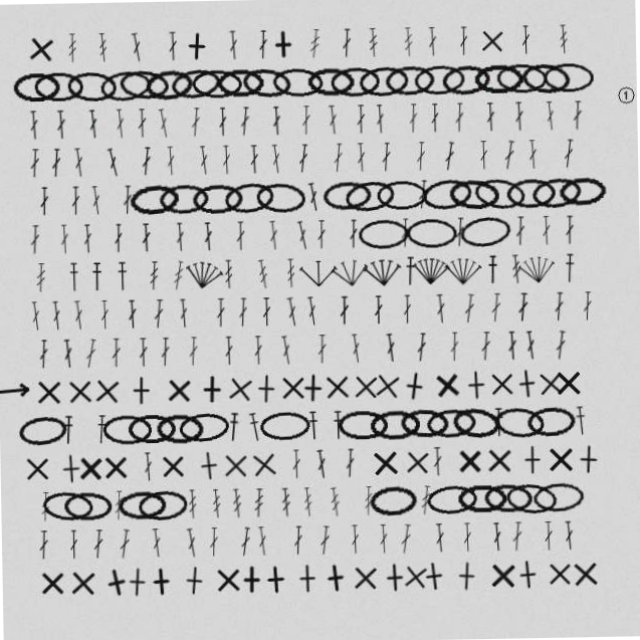chain: (346, 179, 399, 215), (475, 179, 528, 215), (175, 65, 228, 100), (226, 179, 279, 214), (423, 179, 476, 214), (460, 217, 513, 252), (501, 484, 555, 518), (532, 180, 585, 214), (491, 408, 544, 442), (449, 407, 500, 442), (105, 66, 157, 100), (246, 66, 298, 100), (524, 66, 576, 100), (17, 408, 69, 442), (177, 408, 230, 441), (40, 484, 93, 517), (124, 66, 175, 99), (132, 180, 183, 213), (277, 67, 329, 99), (450, 181, 502, 213), (135, 485, 187, 517), (150, 66, 200, 99), (72, 67, 123, 99), (363, 67, 414, 99), (445, 67, 496, 99), (258, 181, 309, 213), (423, 485, 474, 517), (418, 67, 470, 98), (258, 409, 310, 440), (424, 409, 474, 441), (389, 67, 440, 98), (500, 67, 551, 98), (529, 485, 580, 516), (162, 181, 212, 212), (325, 181, 375, 212), (398, 409, 448, 440), (524, 409, 574, 440), (480, 485, 530, 516), (197, 68, 248, 98), (195, 182, 246, 212), (408, 220, 459, 250), (560, 181, 609, 212), (366, 485, 415, 516), (360, 220, 410, 250), (368, 410, 418, 440), (379, 182, 430, 211), (335, 68, 384, 98), (508, 182, 557, 212), (102, 410, 151, 440), (155, 410, 204, 440), (62, 486, 111, 516), (116, 486, 165, 516), (547, 68, 597, 97), (336, 410, 386, 439), (312, 68, 360, 98), (40, 68, 89, 97), (478, 68, 527, 97), (127, 410, 176, 439), (454, 486, 503, 515), (19, 68, 67, 97), (222, 68, 270, 97)
double: (110, 144, 125, 174), (136, 30, 150, 60), (505, 144, 519, 174), (298, 220, 312, 250), (286, 296, 300, 326), (85, 334, 99, 364), (115, 524, 129, 554), (182, 524, 196, 554), (395, 524, 409, 554), (162, 106, 175, 136), (446, 144, 459, 174), (310, 182, 323, 212), (463, 296, 476, 326), (280, 334, 293, 364), (553, 334, 566, 364), (313, 448, 326, 478), (236, 524, 249, 554), (315, 524, 328, 554), (77, 144, 90, 173), (74, 296, 87, 325), (384, 334, 397, 363), (253, 524, 266, 553), (331, 106, 343, 135), (202, 144, 214, 173), (274, 144, 286, 173), (301, 144, 313, 173), (565, 144, 577, 173), (94, 182, 106, 211), (419, 182, 431, 211), (270, 220, 282, 249), (32, 296, 44, 325), (154, 296, 166, 325), (307, 296, 319, 325), (435, 296, 447, 325), (490, 296, 502, 325), (517, 296, 529, 325), (350, 334, 362, 363), (415, 334, 427, 363), (479, 334, 491, 363), (524, 334, 536, 363), (90, 524, 102, 553), (148, 524, 160, 553), (430, 524, 442, 553), (507, 524, 519, 553), (234, 30, 245, 59), (432, 30, 443, 59), (34, 106, 45, 135), (61, 106, 72, 135), (93, 106, 104, 135), (120, 106, 131, 135), (195, 106, 206, 135), (244, 106, 255, 135), (517, 106, 528, 135), (548, 106, 559, 135), (575, 106, 586, 135), (34, 144, 45, 173), (145, 144, 156, 173), (336, 144, 347, 173), (359, 144, 370, 173), (384, 144, 395, 173), (530, 144, 541, 173), (33, 220, 44, 249), (456, 220, 467, 249), (516, 220, 527, 249), (53, 296, 64, 325), (553, 296, 564, 325), (64, 334, 75, 363), (506, 334, 517, 363), (36, 524, 47, 553), (559, 524, 570, 553), (174, 30, 184, 59), (264, 30, 274, 59), (347, 30, 357, 59), (142, 106, 152, 135), (276, 106, 286, 135), (360, 106, 370, 135), (379, 106, 389, 135), (412, 106, 422, 135), (458, 106, 468, 135), (489, 106, 499, 135), (56, 144, 66, 173), (170, 144, 180, 173), (253, 144, 263, 173), (419, 144, 429, 173), (126, 182, 136, 211), (63, 220, 73, 249), (86, 220, 96, 249), (144, 220, 154, 249), (178, 220, 188, 249), (206, 220, 216, 249), (238, 220, 248, 249), (402, 220, 412, 249), (129, 296, 139, 325), (180, 296, 190, 325), (217, 296, 227, 325), (239, 296, 249, 325), (340, 296, 350, 325), (374, 296, 384, 325), (582, 296, 592, 325), (40, 334, 50, 363), (112, 334, 122, 363), (139, 334, 149, 363), (161, 334, 171, 363), (189, 334, 199, 363), (317, 334, 327, 363), (449, 334, 459, 363), (142, 448, 152, 477), (343, 448, 353, 477), (430, 448, 440, 477), (206, 524, 216, 553), (290, 524, 300, 553), (375, 524, 385, 553), (488, 524, 498, 553), (539, 524, 549, 553), (464, 30, 473, 59), (526, 30, 535, 59), (223, 106, 232, 135), (306, 106, 315, 135), (434, 106, 443, 135), (226, 144, 235, 173), (482, 144, 491, 173), (44, 182, 53, 211), (75, 182, 84, 211), (117, 220, 126, 249), (319, 220, 328, 249), (351, 220, 360, 249), (543, 220, 552, 249), (566, 220, 575, 249), (102, 296, 111, 325), (263, 296, 272, 325), (403, 296, 412, 325), (225, 334, 234, 363), (254, 334, 263, 363), (290, 448, 299, 477), (67, 524, 76, 553), (347, 524, 356, 553), (459, 524, 468, 553)
fan: (185, 255, 227, 290), (331, 256, 372, 289), (517, 256, 558, 289), (364, 257, 404, 289), (412, 257, 452, 288), (445, 258, 483, 288), (301, 258, 339, 287)
half_double: (246, 410, 262, 440), (226, 410, 239, 439), (572, 410, 585, 439), (405, 258, 417, 287), (564, 258, 576, 287), (62, 410, 74, 439), (95, 410, 107, 439), (306, 410, 318, 439), (71, 258, 82, 287), (94, 258, 105, 287), (119, 258, 130, 287), (488, 258, 499, 287), (331, 410, 342, 439), (491, 410, 502, 439)
noise: (0, 376, 32, 392), (619, 91, 640, 112)
single: (96, 560, 130, 594), (370, 370, 403, 403), (32, 29, 64, 61), (224, 371, 256, 403), (397, 371, 429, 403), (395, 561, 427, 593), (92, 371, 123, 402), (510, 371, 541, 402), (192, 447, 223, 478), (247, 447, 278, 478), (175, 561, 206, 592), (316, 561, 347, 592), (414, 561, 445, 592), (507, 561, 538, 592), (431, 371, 461, 402), (188, 30, 218, 60), (482, 30, 512, 60), (164, 372, 194, 402), (251, 372, 281, 402), (297, 372, 327, 402), (350, 372, 380, 402), (460, 372, 490, 402), (534, 372, 564, 402), (55, 448, 85, 478), (219, 448, 249, 478), (368, 448, 398, 478), (400, 448, 430, 478), (570, 448, 600, 478), (65, 562, 95, 592), (119, 562, 149, 592), (143, 562, 173, 592), (257, 562, 287, 592), (346, 562, 376, 592), (375, 562, 405, 592), (447, 562, 477, 592), (483, 562, 513, 592), (565, 562, 595, 592), (75, 448, 104, 478), (274, 30, 303, 59), (35, 372, 64, 401), (66, 372, 95, 401), (127, 372, 156, 401), (197, 372, 226, 401), (278, 372, 307, 401), (322, 372, 351, 401), (486, 372, 515, 401), (552, 372, 581, 401), (22, 448, 51, 477), (100, 448, 129, 477), (157, 448, 186, 477), (482, 448, 511, 477), (515, 448, 544, 477), (543, 448, 572, 477), (35, 562, 64, 591), (210, 562, 239, 591), (233, 562, 262, 591), (289, 562, 318, 591), (540, 562, 569, 591), (453, 448, 481, 477)
treble: (258, 258, 272, 288), (174, 258, 187, 288), (326, 486, 339, 516), (416, 486, 429, 516), (314, 30, 327, 59), (511, 258, 523, 287), (229, 486, 241, 515), (104, 30, 115, 59), (373, 30, 384, 59), (408, 30, 419, 59), (38, 258, 49, 287), (209, 486, 220, 515), (251, 486, 262, 515), (278, 486, 289, 515), (300, 486, 311, 515), (74, 30, 84, 59), (563, 30, 573, 59), (151, 258, 161, 287), (39, 486, 49, 515), (112, 486, 122, 515), (226, 258, 235, 287), (288, 258, 297, 287), (186, 486, 195, 515), (361, 486, 370, 515)
